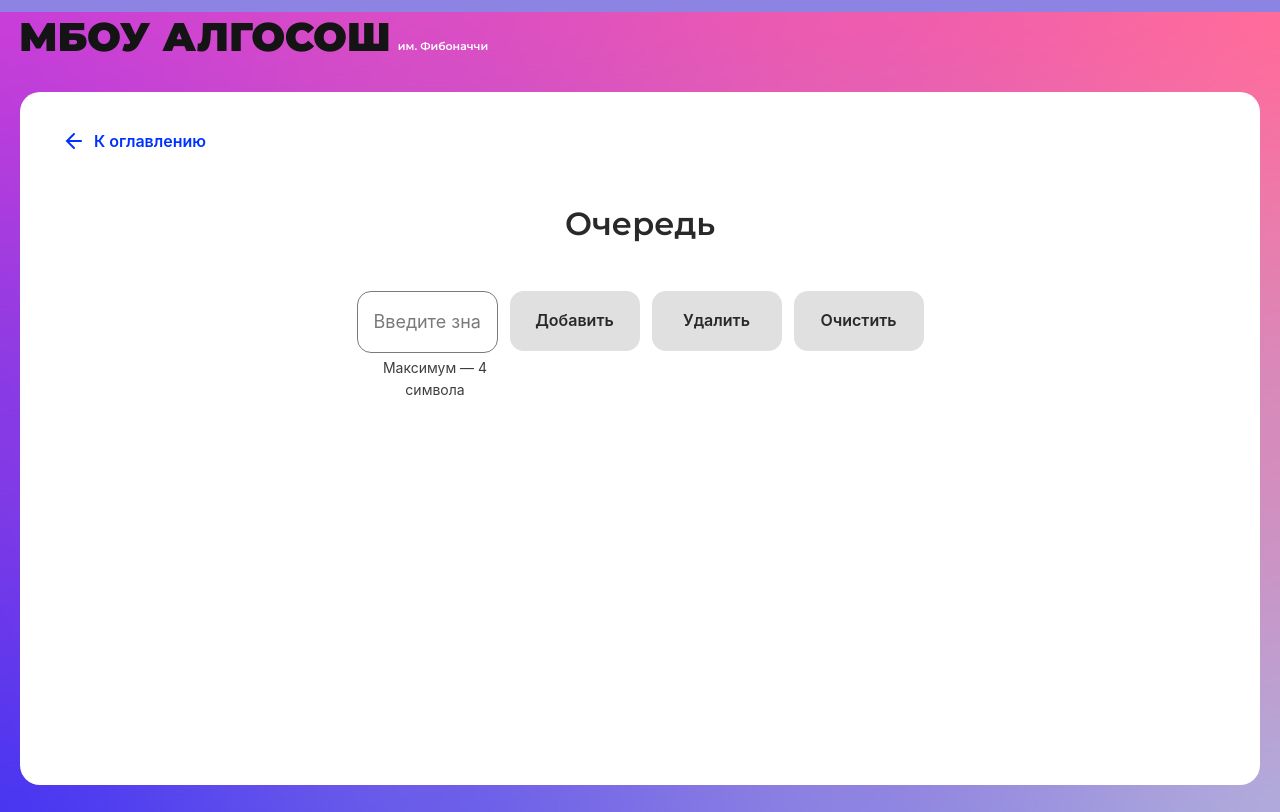
Test: Queue Page › removes an element from the queue
Type "42" into the field with test id "input" at x=428, y=322, box 357,291 -> 498,353
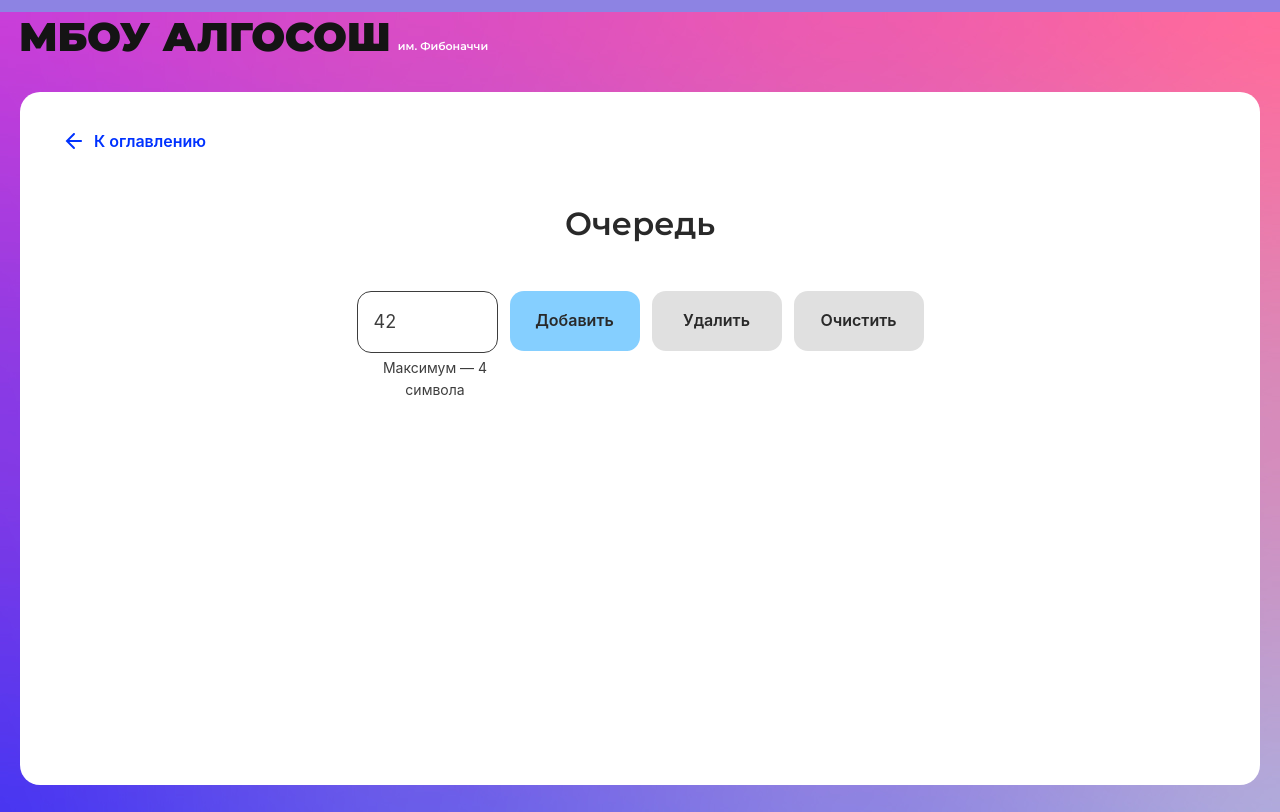
Click the button with test id "add-button" at x=575, y=321, box 510,291 -> 640,351
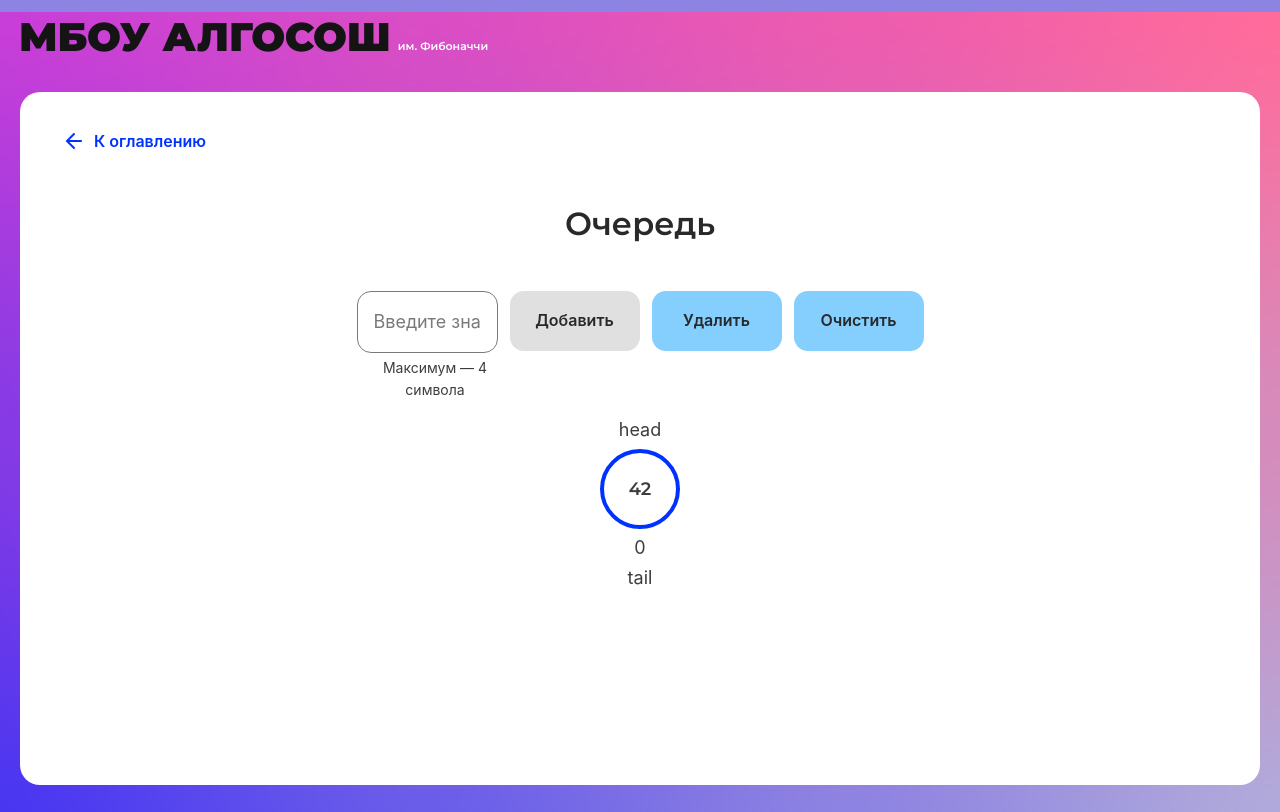
Click the button with test id "delete-button" at x=717, y=321, box 652,291 -> 782,351
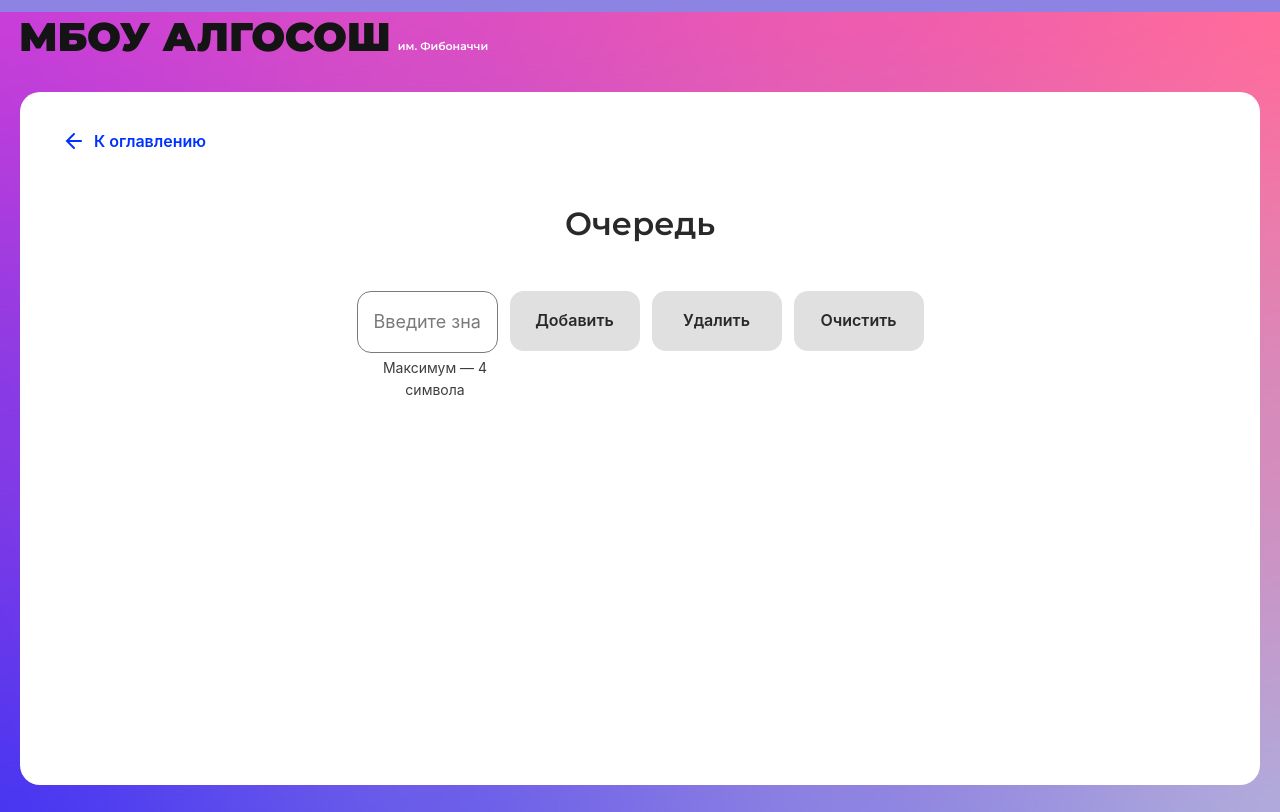
Expected: the list item with test id "queue-item" is gone
